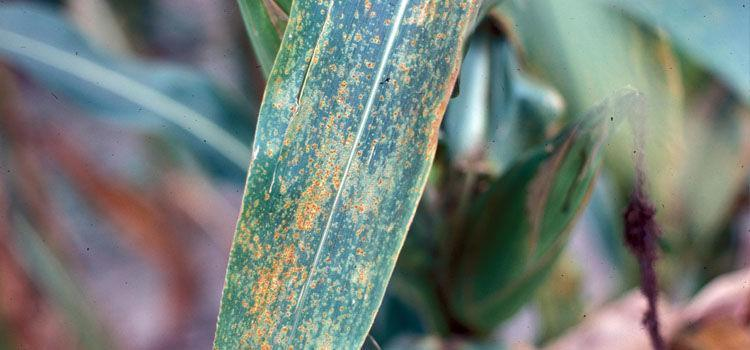Corn_Common_Rust: (202, 0, 496, 350)
